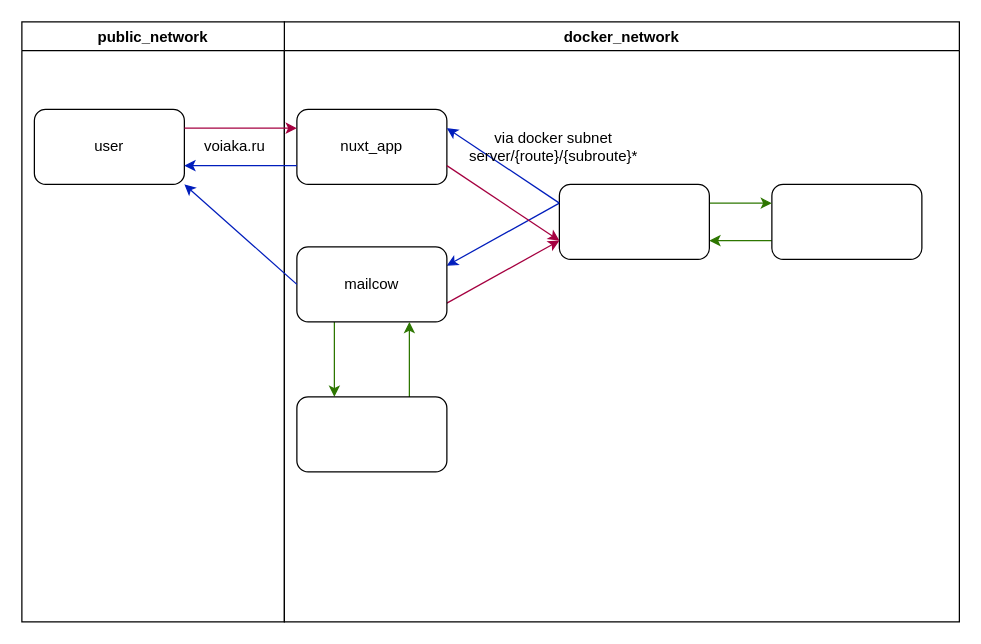
Image size: 981x644. Some labels were removed from this diagram. Each missing label, with the centre of its shape:
"MySQL" goes at (371,434).
"Postgre_DB" goes at (846,221).
"REST_API" goes at (633,221).
